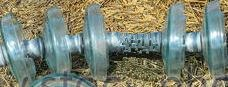gap: (80, 2, 189, 81)
